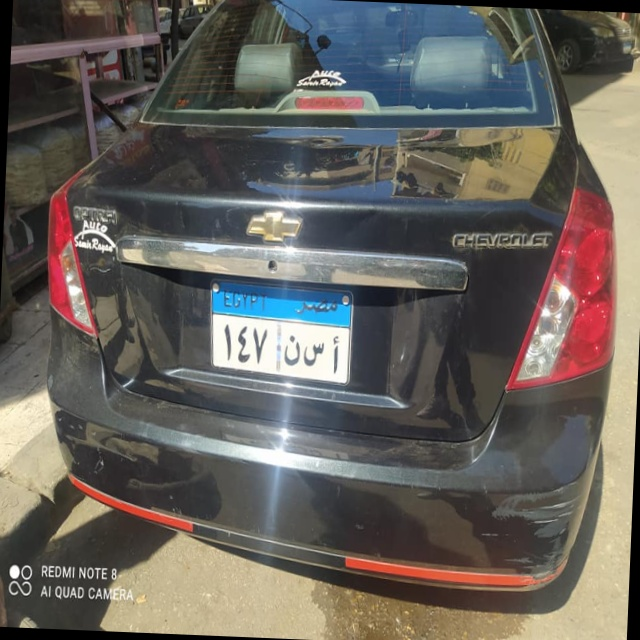License Plate: (205, 274, 357, 390)
